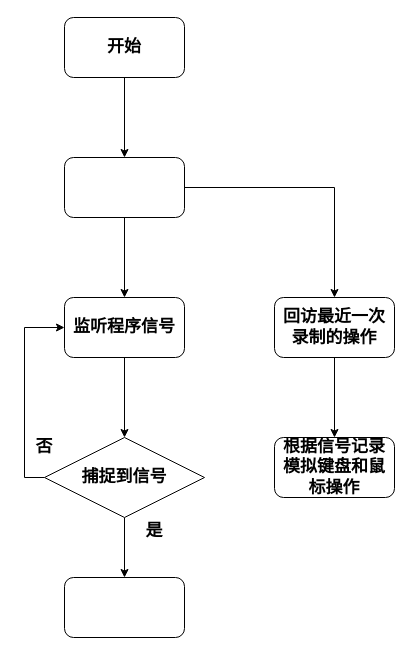
Image size: 412x655. Some labels were removed from this diagram. Here are the shapes that lost their labels. From the top down, the box of each, then its label:
(64, 156, 184, 218): 启动Windows 窗体程序
(64, 576, 184, 638): 记录操作
